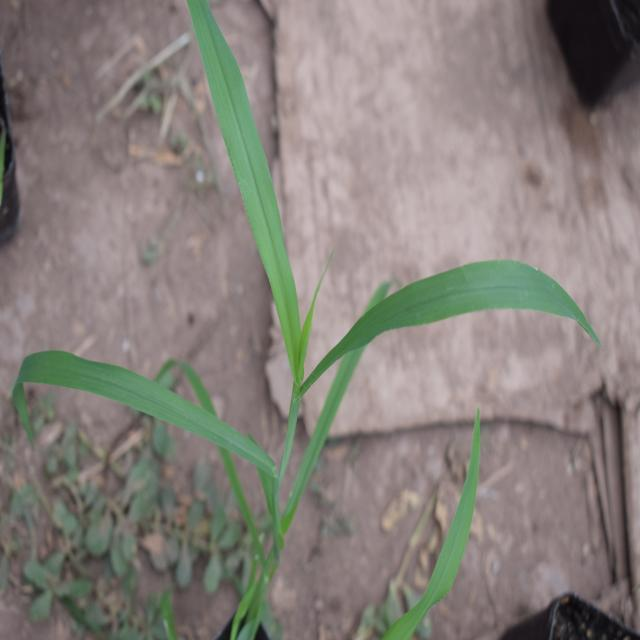crabgrass: (62, 18, 542, 509)
